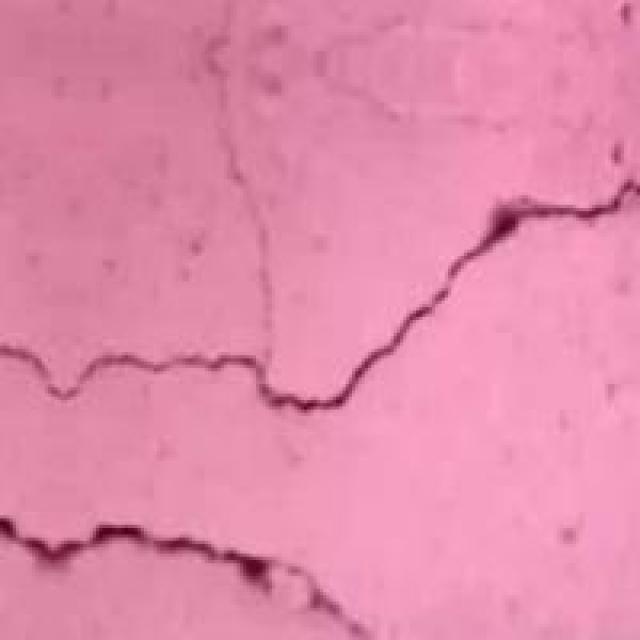Crack: (3, 202, 589, 637)
